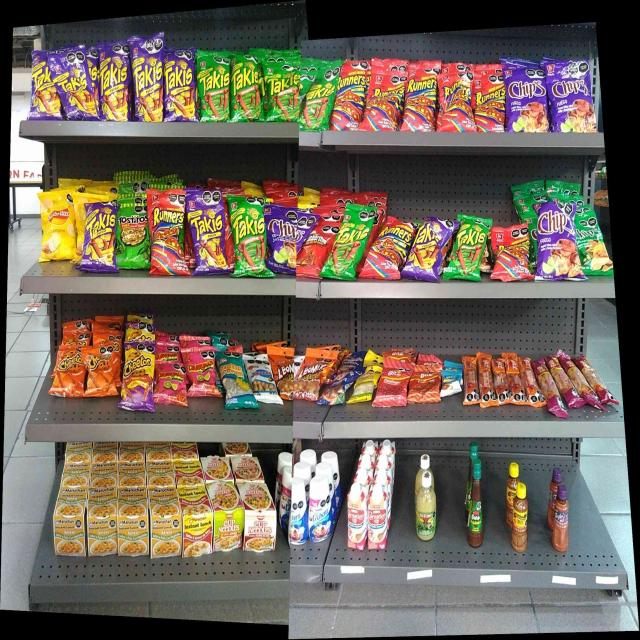bitzAlmendras: (441, 367, 461, 392)
bitzEnchilado90: (380, 362, 407, 405), (409, 362, 439, 400)
bitzEnchilado95: (464, 352, 532, 404)
bitzHabanero: (542, 351, 616, 413)
bokadosCacahuates: (327, 369, 349, 404)
botaneraChilito: (511, 483, 528, 551)
cheetosFlaminHot: (126, 343, 151, 409)
cheetosOriginal: (87, 347, 114, 394), (58, 349, 82, 398)
chipsFuego: (549, 64, 595, 132), (536, 203, 575, 279), (507, 69, 545, 133), (268, 205, 297, 273)
chipsJalapeno: (578, 212, 612, 276)
churrumais: (187, 345, 216, 395), (156, 361, 184, 401)
delPrimoSalsa: (416, 472, 435, 542)
leoCacahuates: (250, 352, 272, 404)
leoMix: (298, 347, 324, 397), (274, 344, 296, 399)
maruchanPollo: (55, 490, 85, 558), (89, 488, 118, 556), (120, 487, 148, 557), (152, 485, 180, 554)
maruchanRes: (184, 484, 208, 556)
nestleCarnation: (347, 486, 366, 552), (369, 486, 385, 552)
nestleLechera: (290, 477, 308, 546), (312, 478, 330, 541)
nissinCamaron: (212, 480, 241, 550)
nissinRes: (244, 480, 274, 553)
rancheritos: (304, 227, 329, 273)
runners: (150, 189, 184, 275), (374, 217, 410, 281), (438, 72, 473, 136), (490, 226, 529, 283), (369, 71, 402, 131), (477, 72, 504, 135), (406, 76, 436, 132), (337, 66, 364, 128)
sabritasOriginal: (40, 191, 74, 260)
salsaBufalo: (468, 461, 482, 548)
semillasCalabaza: (356, 373, 374, 401)
semillasGirasol: (222, 349, 245, 406)
tajinDulce: (552, 489, 568, 555)
takisFuego: (189, 191, 224, 272), (132, 39, 162, 121), (54, 55, 91, 116), (165, 51, 196, 122), (100, 48, 129, 120), (85, 203, 116, 269), (416, 217, 442, 280), (32, 55, 49, 116)
takisOriginal: (231, 195, 263, 276), (338, 209, 370, 279), (454, 217, 486, 283), (198, 52, 229, 120), (232, 52, 260, 124), (264, 67, 298, 124), (303, 79, 331, 131)
tostitos: (118, 200, 146, 268)
